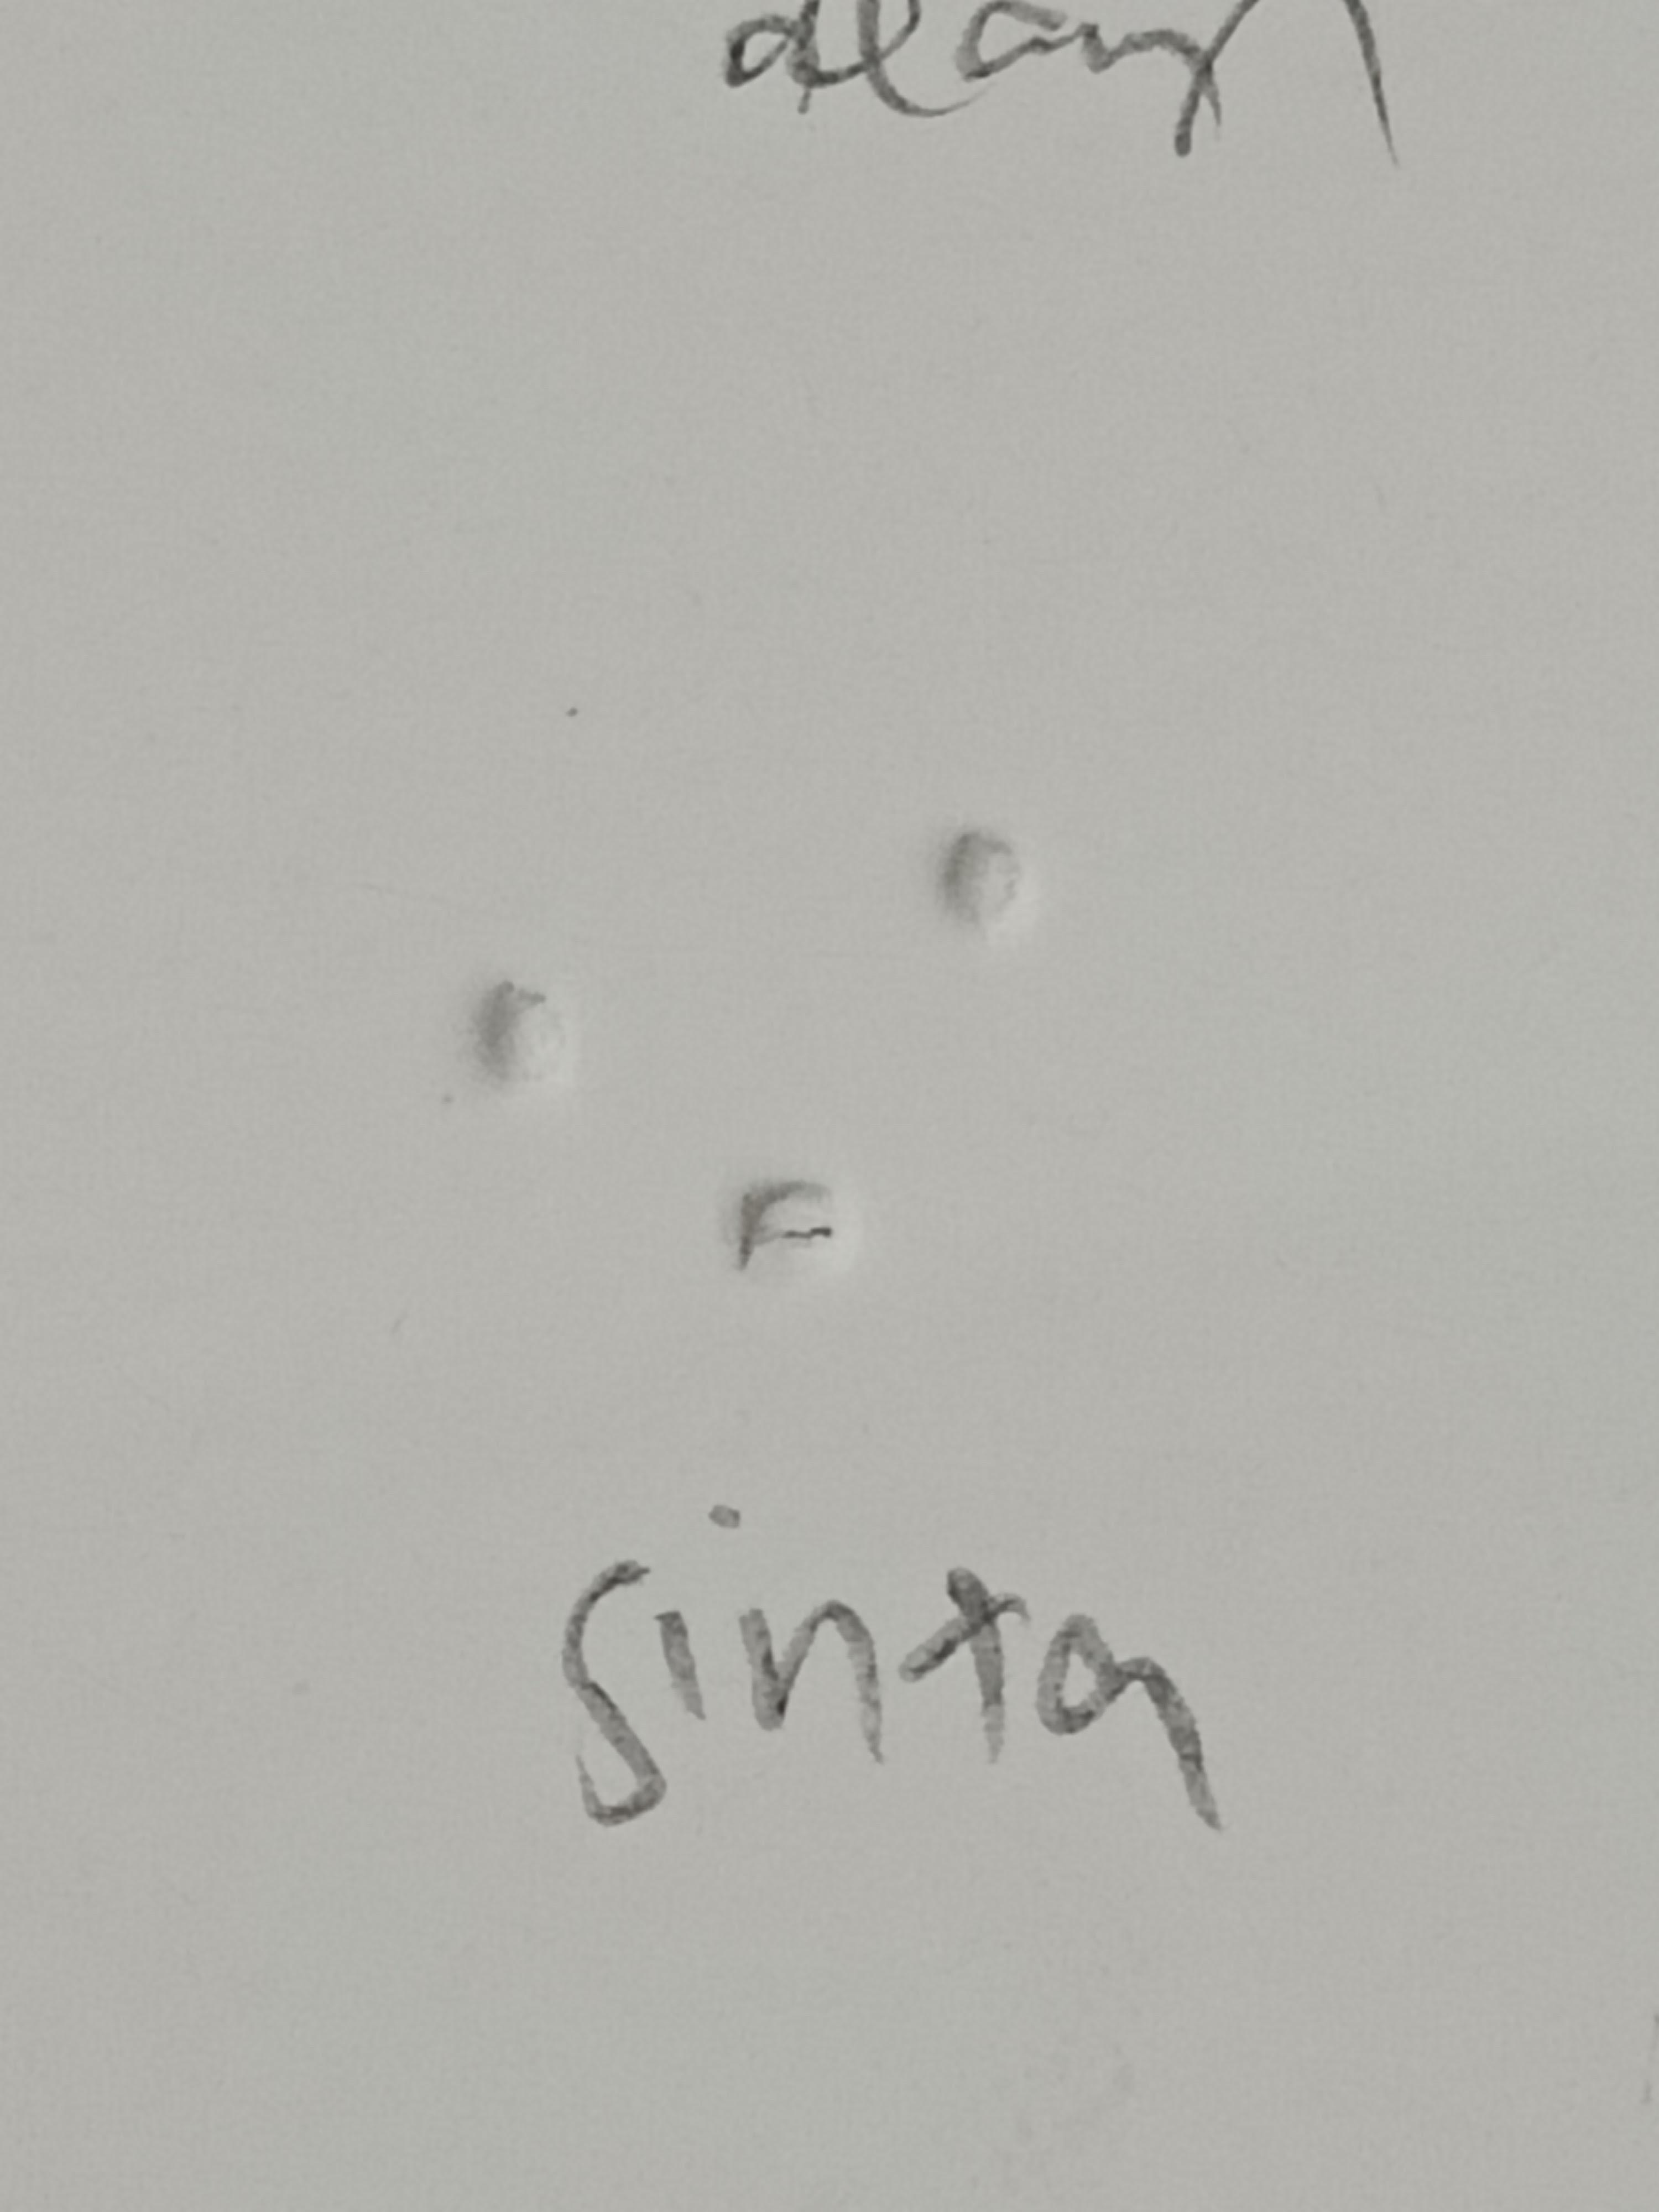dot_5: (272, 805, 566, 1277)
two_cell_non_alphabet_sinta: (737, 813, 1032, 1285)
